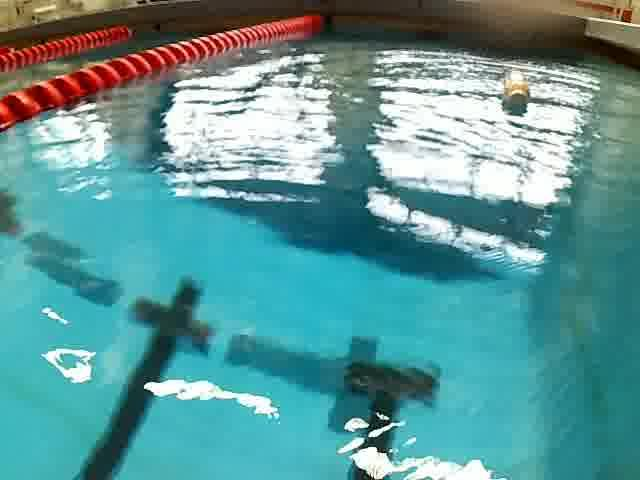Bottle: (501, 65, 531, 111)
